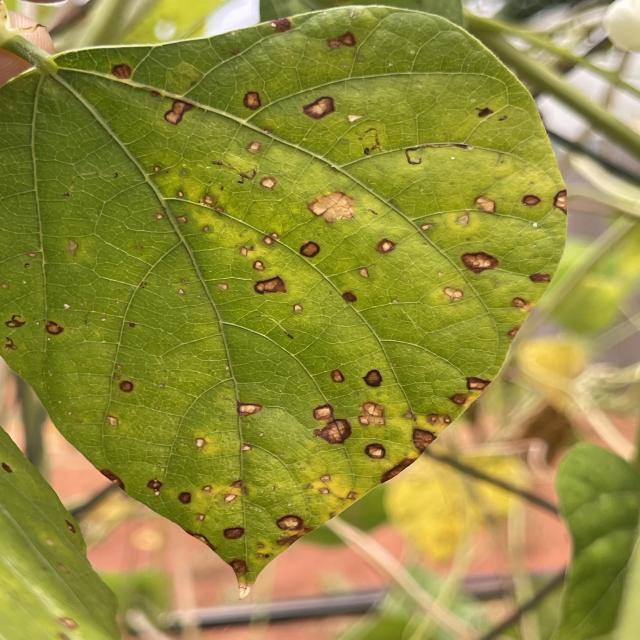Dolicos bean_cercospora leaf spot: (0, 0, 572, 595)
